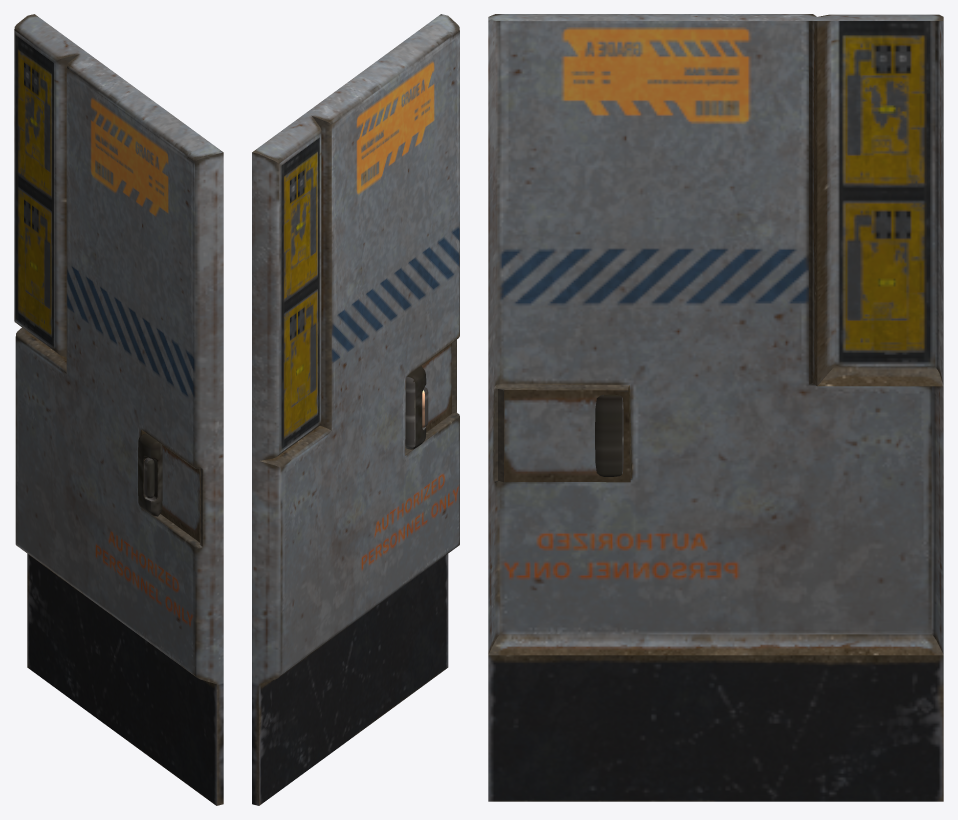
The model's file is SM_Doors_LP_pCube133.fbx.
3 views of the same model, side by side, from view 1: azimuth 30°, elevation 25°; view 2: azimuth 150°, elevation 25°; view 3: azimuth 270°, elevation 25° (orthographic). The views are drawn at different scales.
Parts seen in each view (by area): view 1: SM_Doors_LP_pCube133_LOD0; view 2: SM_Doors_LP_pCube133_LOD0; view 3: SM_Doors_LP_pCube133_LOD0.
Part boxes in pixels (x1=…): SM_Doors_LP_pCube133_LOD0: x1=14, y1=14, x2=223, y2=805; SM_Doors_LP_pCube133_LOD0: x1=252, y1=14, x2=459, y2=805; SM_Doors_LP_pCube133_LOD0: x1=488, y1=14, x2=943, y2=801.
Size of the model in its own units: 10.45 by 107 by 203.
Materials: 2 (2 with a texture image).
